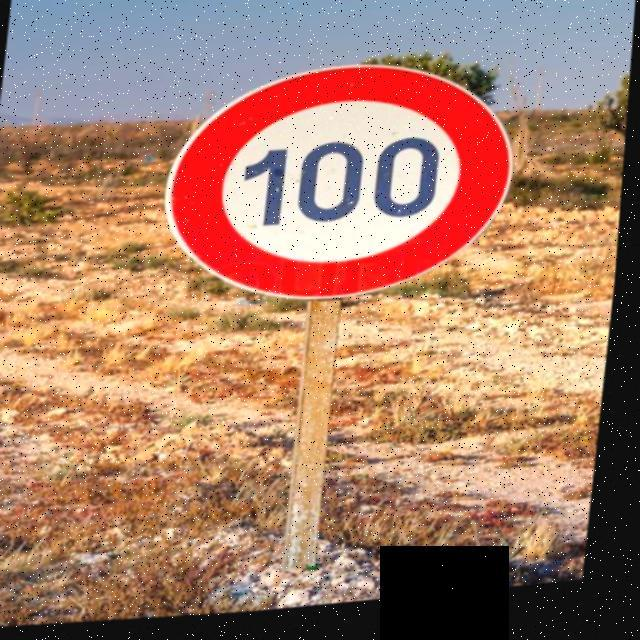speed limit 100: (164, 64, 514, 299)
